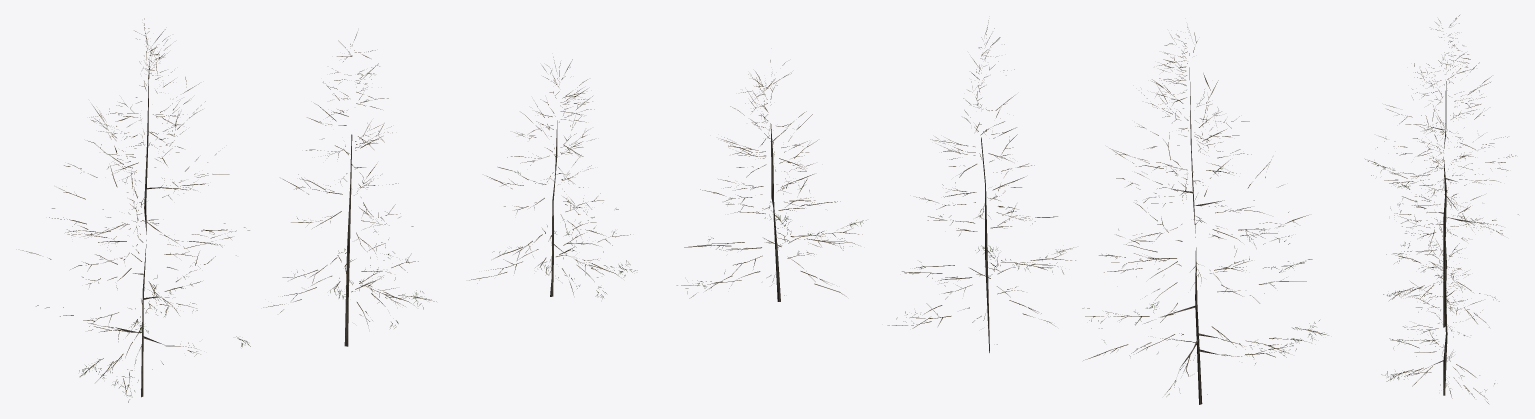
The model's file is fir_sapling_medium.glb.
The picture shows the model from 3 angles, left to right: view 1: azimuth 30°, elevation 25°; view 2: azimuth 150°, elevation 25°; view 3: azimuth 270°, elevation 25°; orthographic projection. The views are drawn at different scales.
Visible parts, largest first — view 1: fir_sapling_medium_a_LOD0; view 2: fir_sapling_medium_a_LOD0; view 3: fir_sapling_medium_a_LOD0.
Boxes of the visible parts, bbox=[...] form: fir_sapling_medium_a_LOD0: bbox=[22, 18, 637, 402]; fir_sapling_medium_a_LOD0: bbox=[676, 20, 1328, 404]; fir_sapling_medium_a_LOD0: bbox=[1365, 15, 1518, 403].
Size of the model in its own units: 14.51 by 8.61 by 4.93.
Materials: 3 (3 with a texture image).
